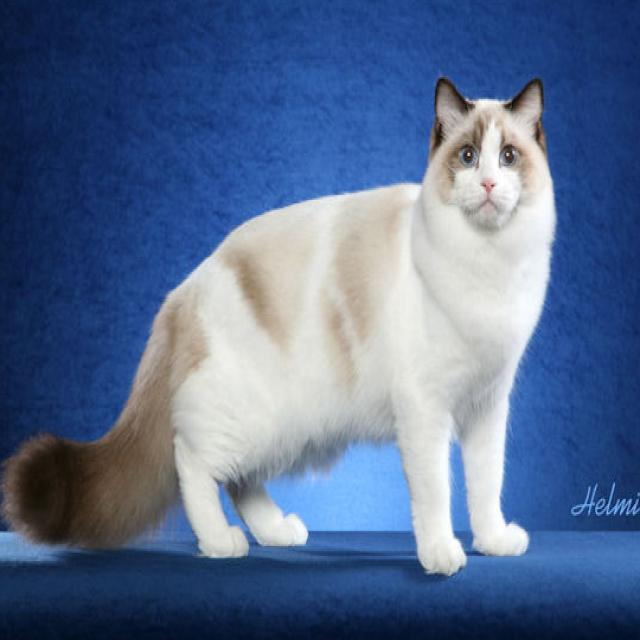Ragdoll: (0, 69, 558, 578)
